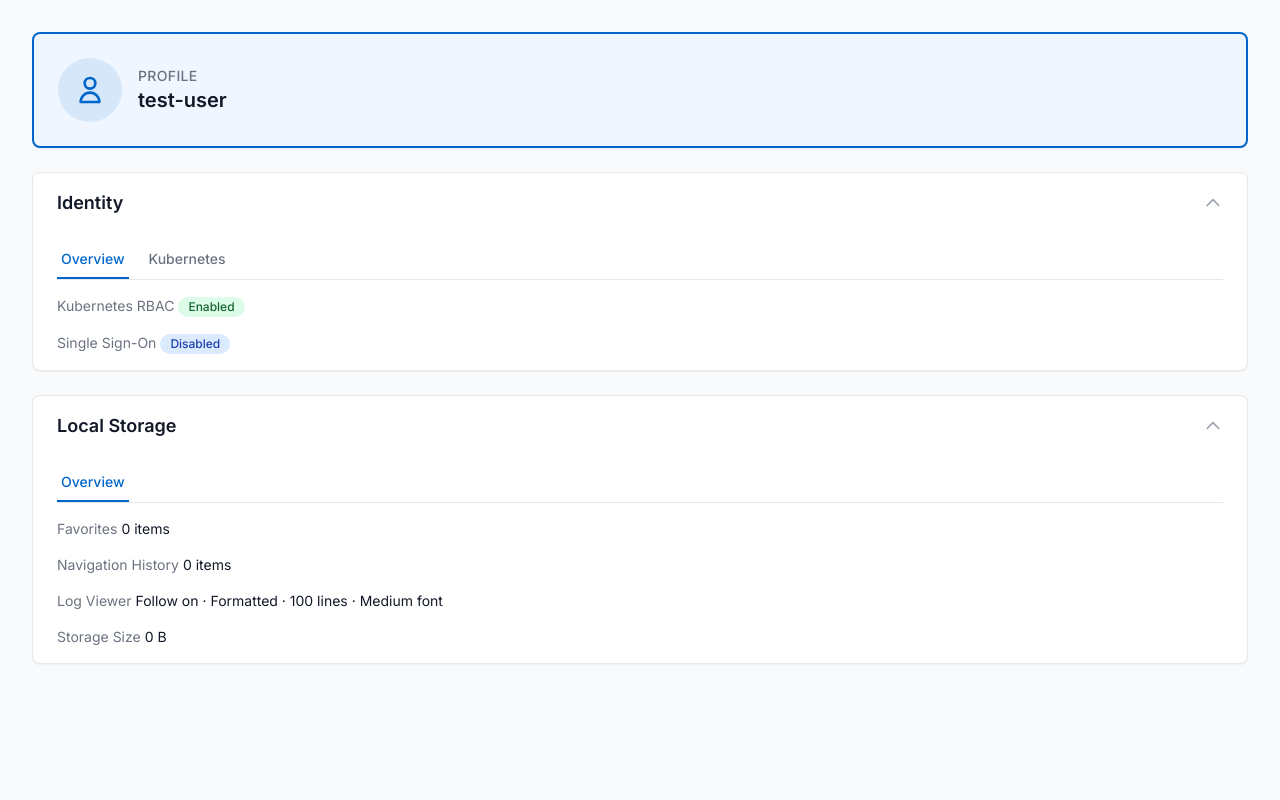
Test: ProfilePage › Identity Panel - Kubernetes Tab › should show impersonation groups in JSON when username is missing
This screenshot has width=1280, height=800.
# Click Kubernetes tab
Click the button "Kubernetes" at (187, 260), box x1=144 y1=241 x2=230 y2=279
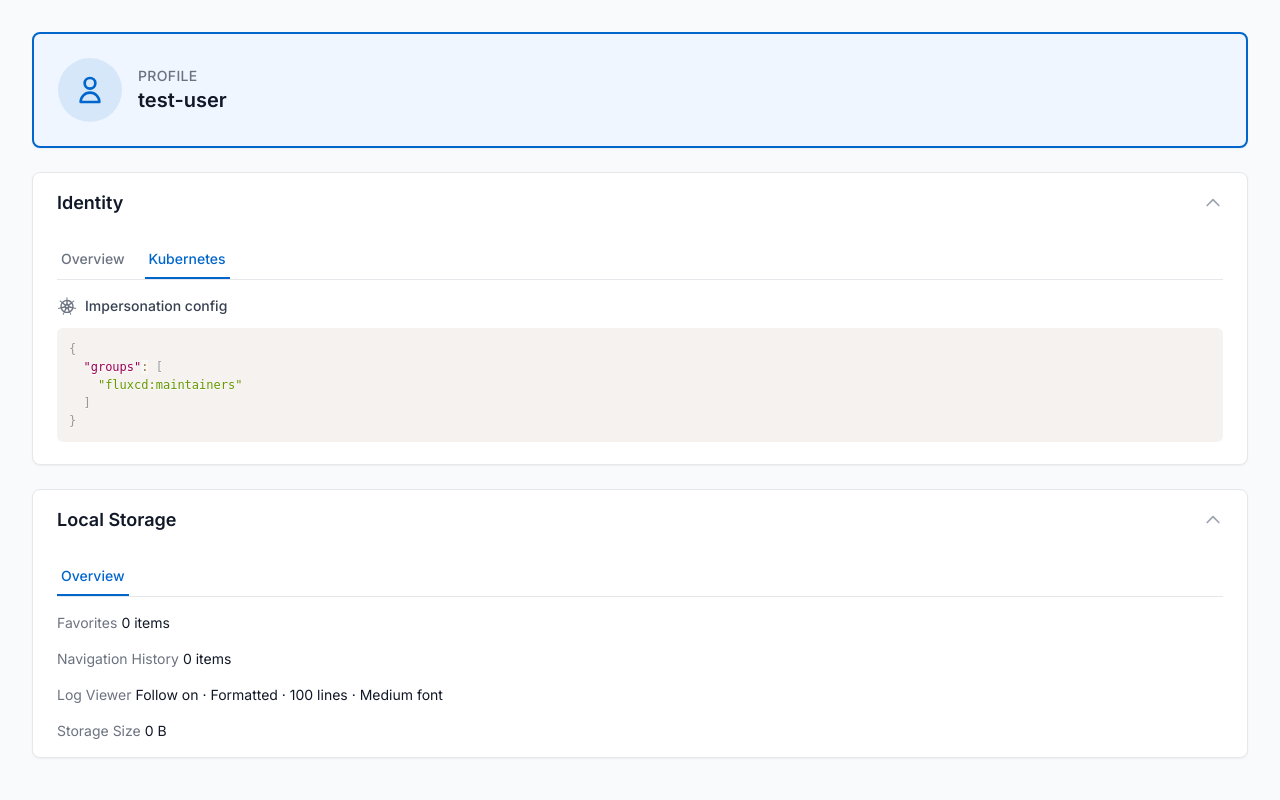
expect the text "\"fluxcd:maintainers\"" is shown: met, box x1=98 y1=378 x2=242 y2=392
